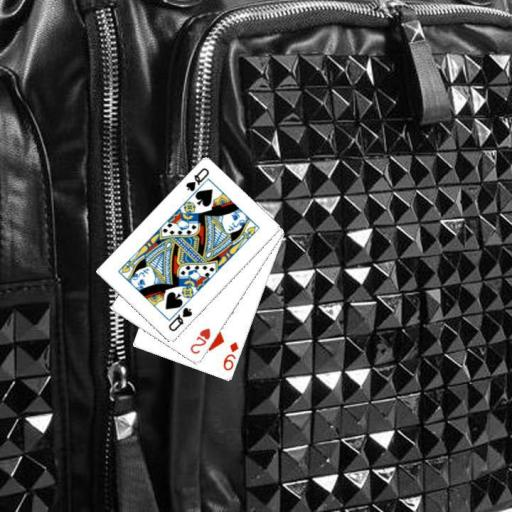2H: (187, 325, 212, 356)
9D: (220, 339, 240, 373)
QS: (165, 304, 193, 333), (183, 165, 210, 193)
